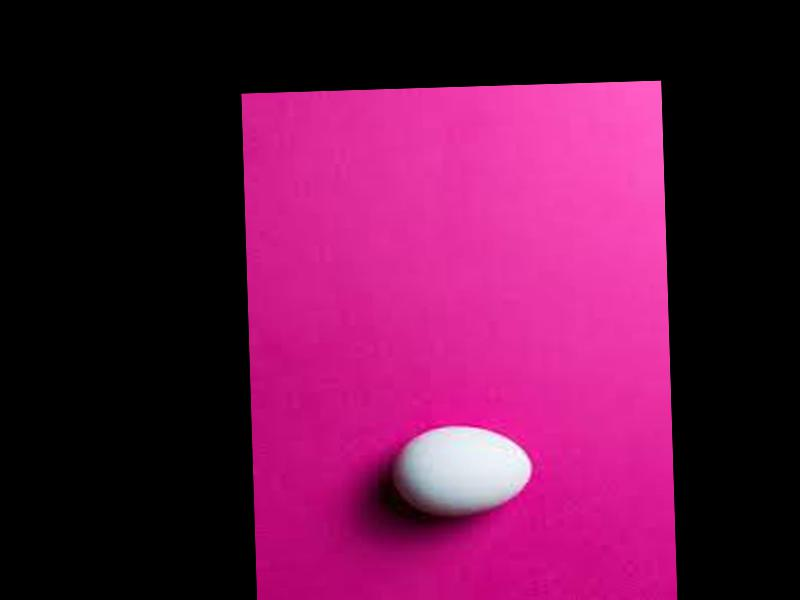Eggs: (392, 423, 533, 516)
